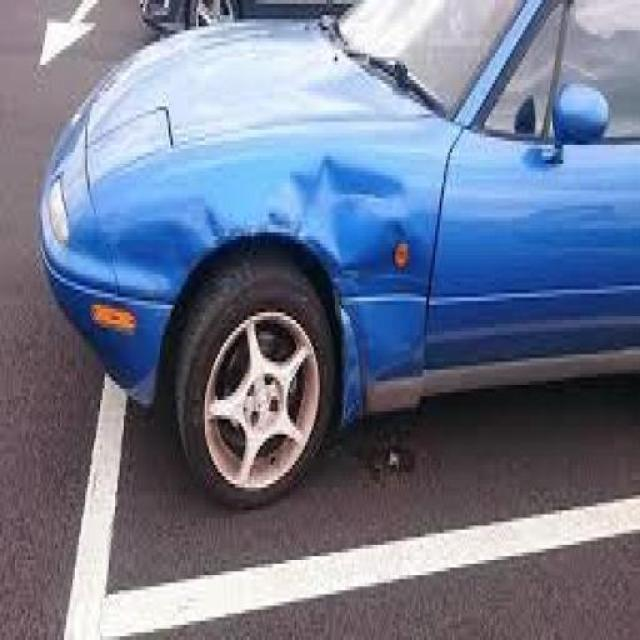dent: (126, 148, 435, 386)
